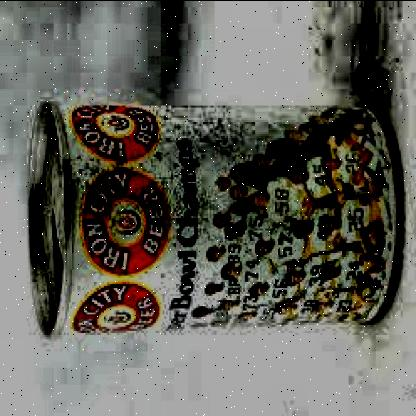Can: (22, 94, 405, 344)
